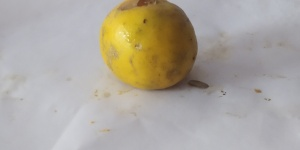BAD: (100, 1, 198, 90)
